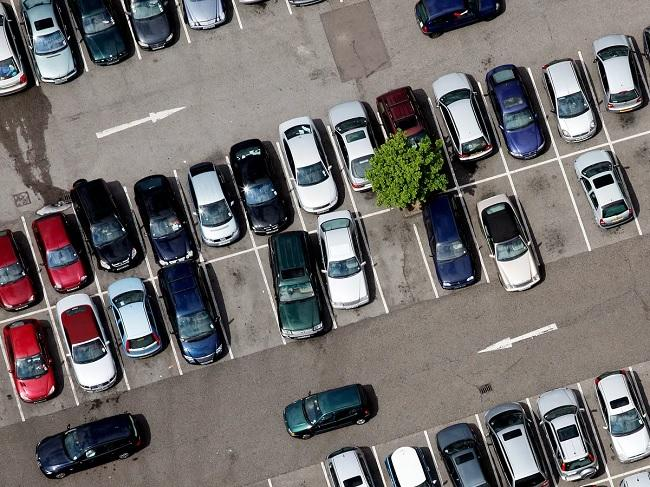occupied: (524, 377, 613, 487), (407, 188, 489, 296), (101, 279, 181, 389), (49, 294, 129, 403), (559, 143, 641, 249), (306, 219, 387, 326), (458, 174, 539, 281), (256, 234, 335, 343), (175, 158, 256, 264), (153, 264, 232, 372), (529, 53, 610, 158), (279, 128, 358, 234), (125, 172, 203, 279), (227, 144, 306, 249), (429, 84, 508, 189), (73, 189, 152, 293), (480, 69, 559, 173), (23, 204, 101, 309)
vacant: (203, 249, 285, 358), (508, 158, 590, 265), (359, 205, 438, 311)
